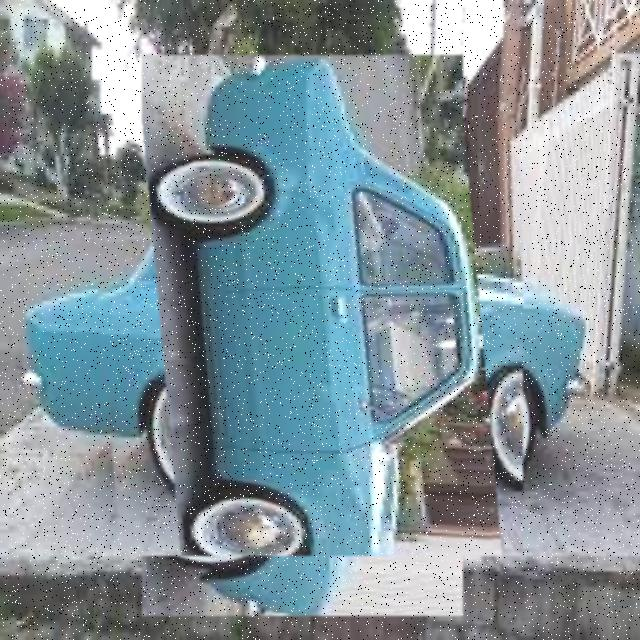car: (83, 116, 524, 557)
